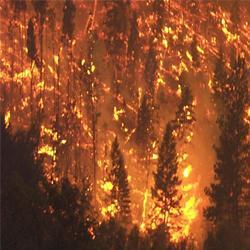fire: (182, 167, 201, 227), (38, 138, 56, 156), (13, 69, 41, 79), (98, 179, 116, 192)
